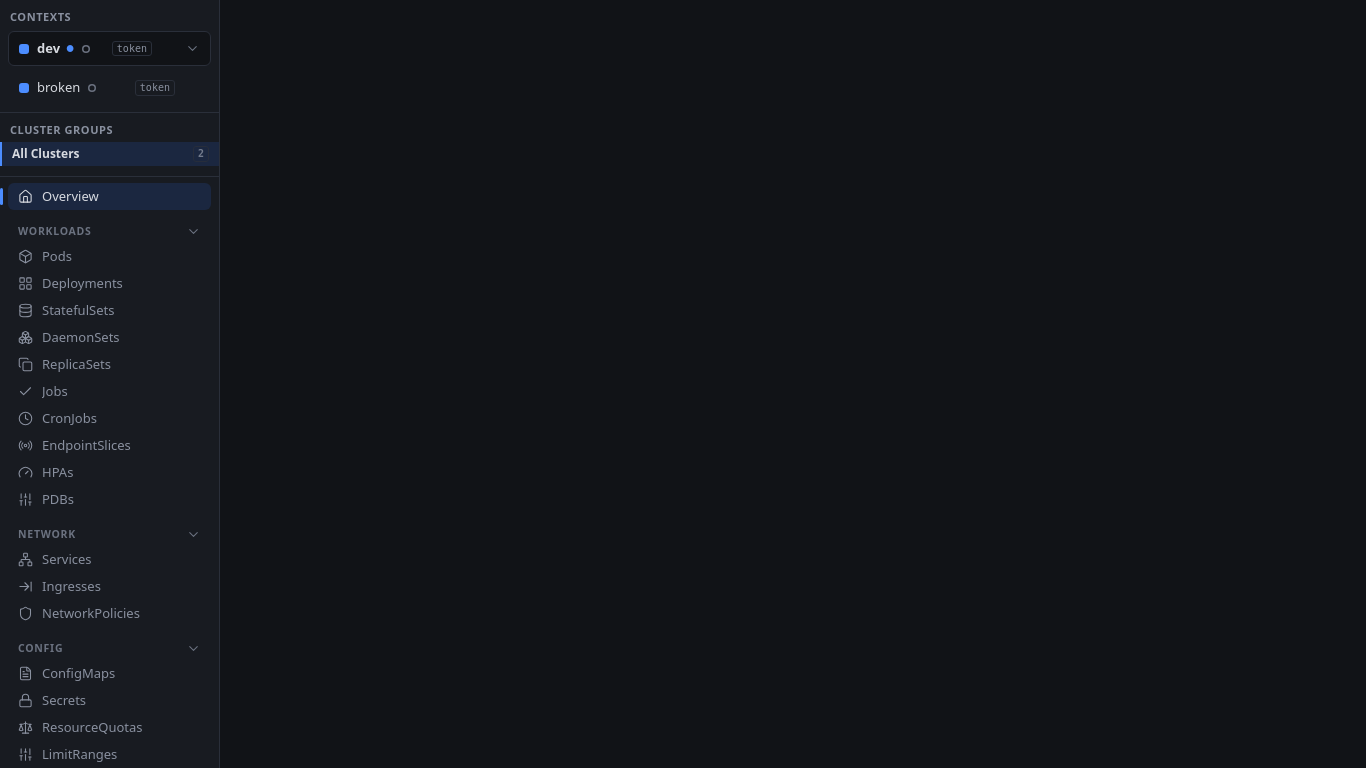
Test: Sidebar connection diagnostics (R-12) › right-click on a context opens the dialog and runs diagnostics
Expected: the list item "broken" is shown, [37,78,80,96]
Right-click the list item "broken": (97,88) [19,78,175,96]
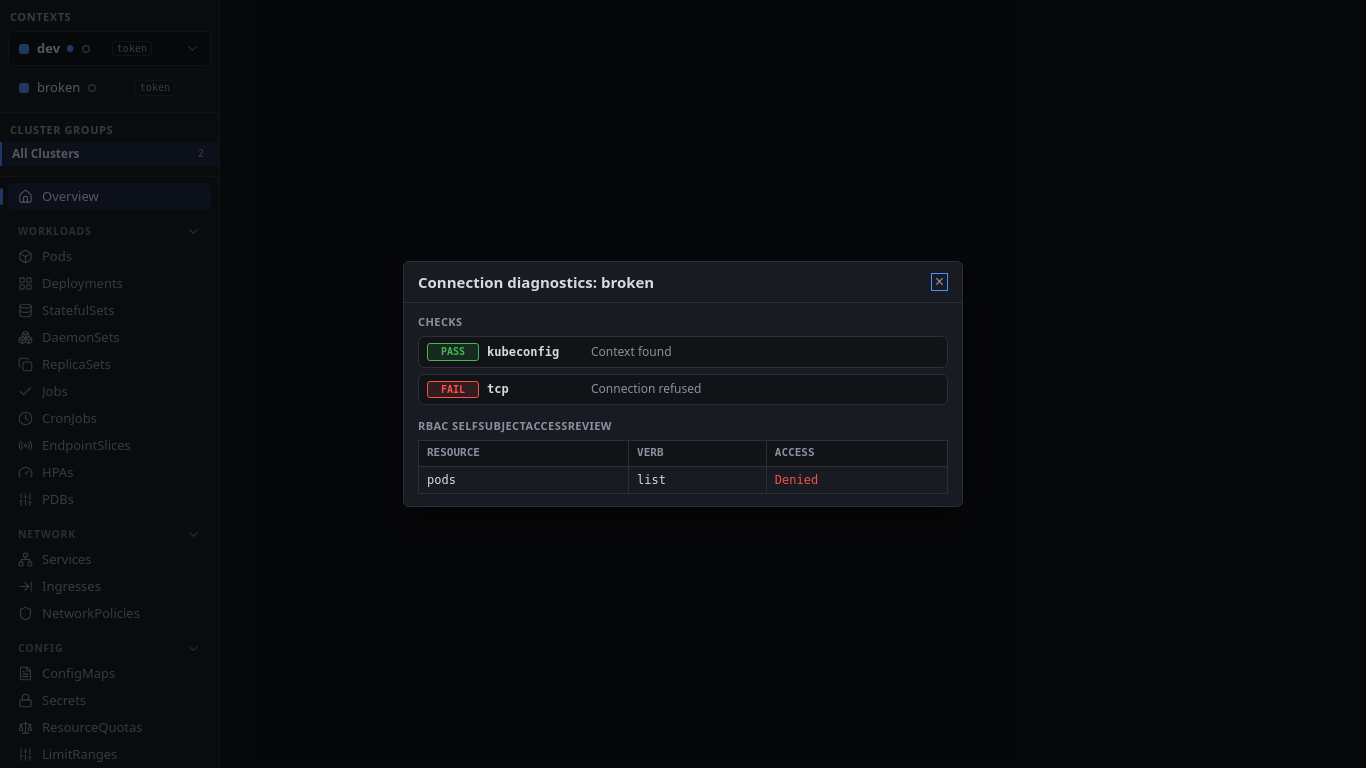
Expected: the list item with test id "diag-step-tcp" is shown, [418,374,948,405]
